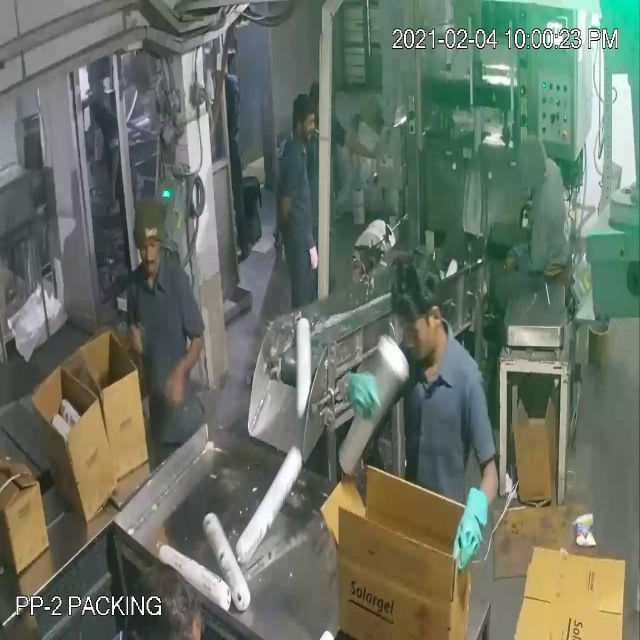Guantes: (450, 446, 505, 578), (327, 357, 395, 426)
Sin_guantes: (162, 320, 217, 417), (333, 125, 398, 172), (119, 306, 154, 376)
